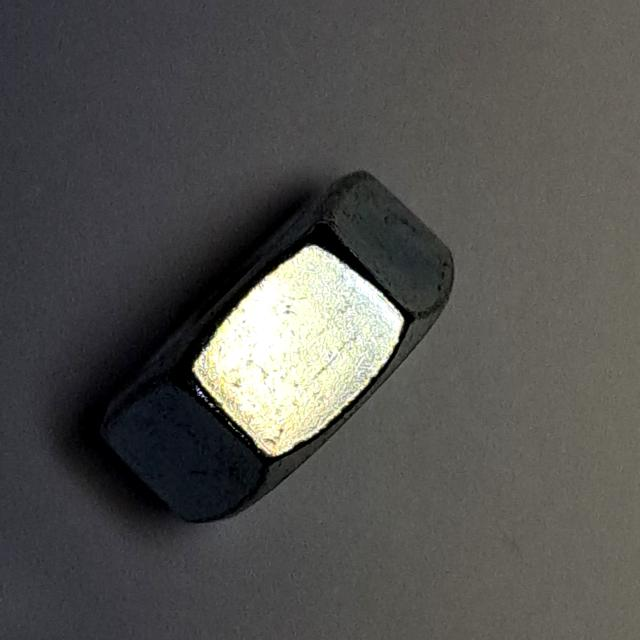Side_Excellent: (87, 160, 485, 533)
